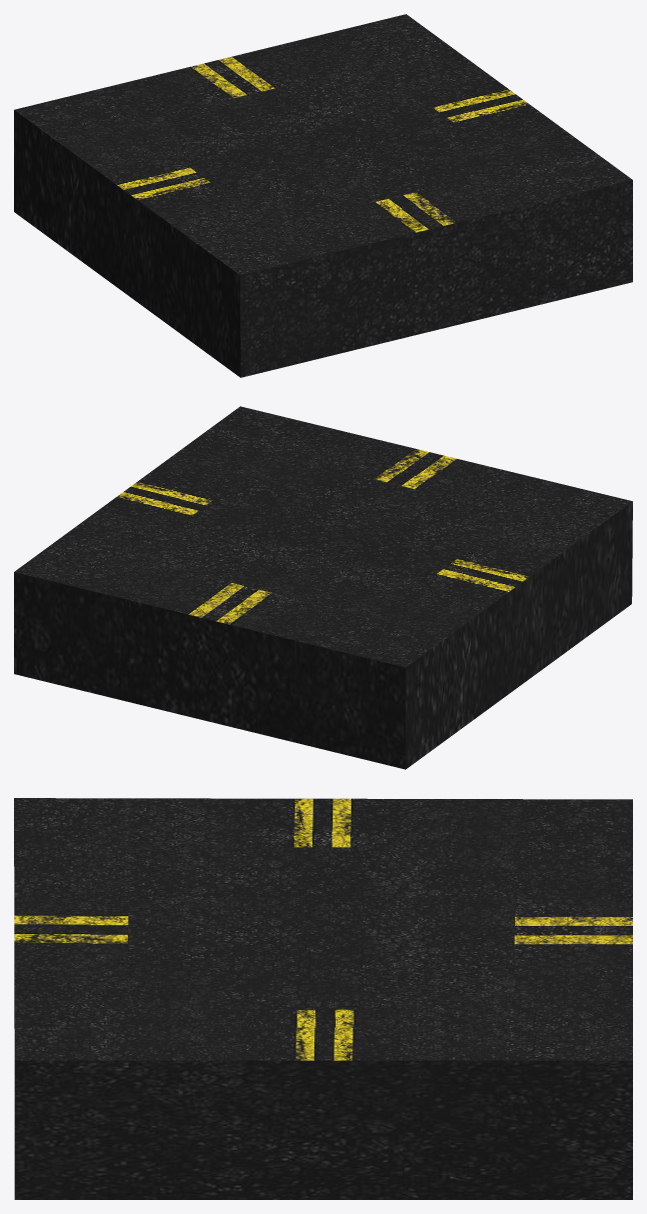
File: Model_Road_Cross.fbx
3 views of the same model, one above another, from view 1: azimuth 30°, elevation 25°; view 2: azimuth 150°, elevation 25°; view 3: azimuth 270°, elevation 25° (orthographic). The views are drawn at different scales.
Parts seen in each view (by area): view 1: Pavement+; view 2: Pavement+; view 3: Pavement+.
Boxes of the visible parts, x1,y1,x2,y2 form: Pavement+: [14, 14, 632, 377]; Pavement+: [14, 406, 632, 769]; Pavement+: [14, 798, 632, 1199].
Size of the model in its own units: 25 by 100 by 100.
Materials: 1 (1 with a texture image).
